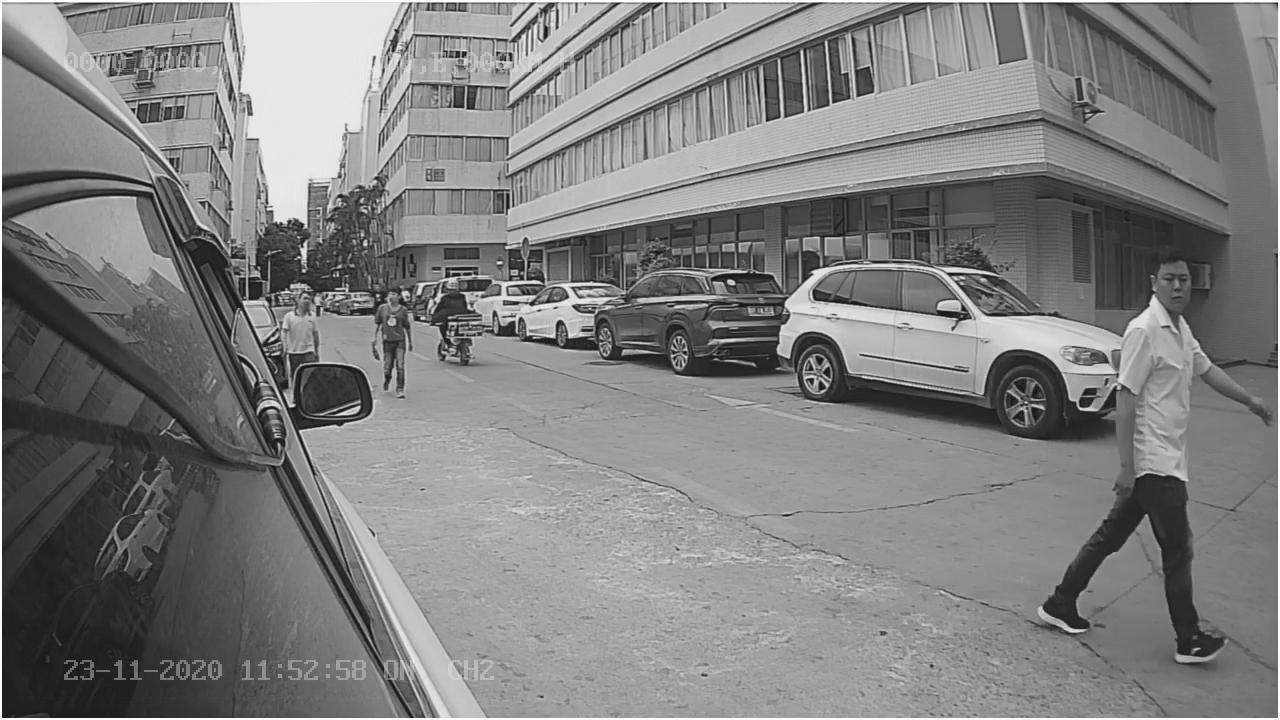person: (1092, 239, 1211, 621)
